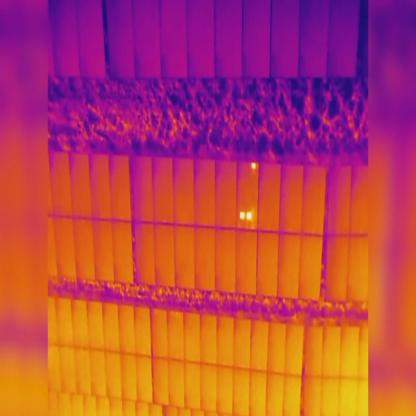panel: (276, 162, 306, 235), (255, 161, 283, 236), (274, 231, 304, 300), (212, 158, 240, 231), (190, 156, 218, 228), (170, 154, 197, 228), (301, 163, 327, 237), (129, 152, 156, 223), (150, 154, 176, 227), (296, 233, 324, 300), (234, 159, 260, 231), (152, 221, 179, 290), (255, 227, 281, 297), (191, 223, 217, 292), (171, 223, 197, 292), (234, 227, 259, 297), (213, 227, 238, 294), (133, 222, 157, 289)
